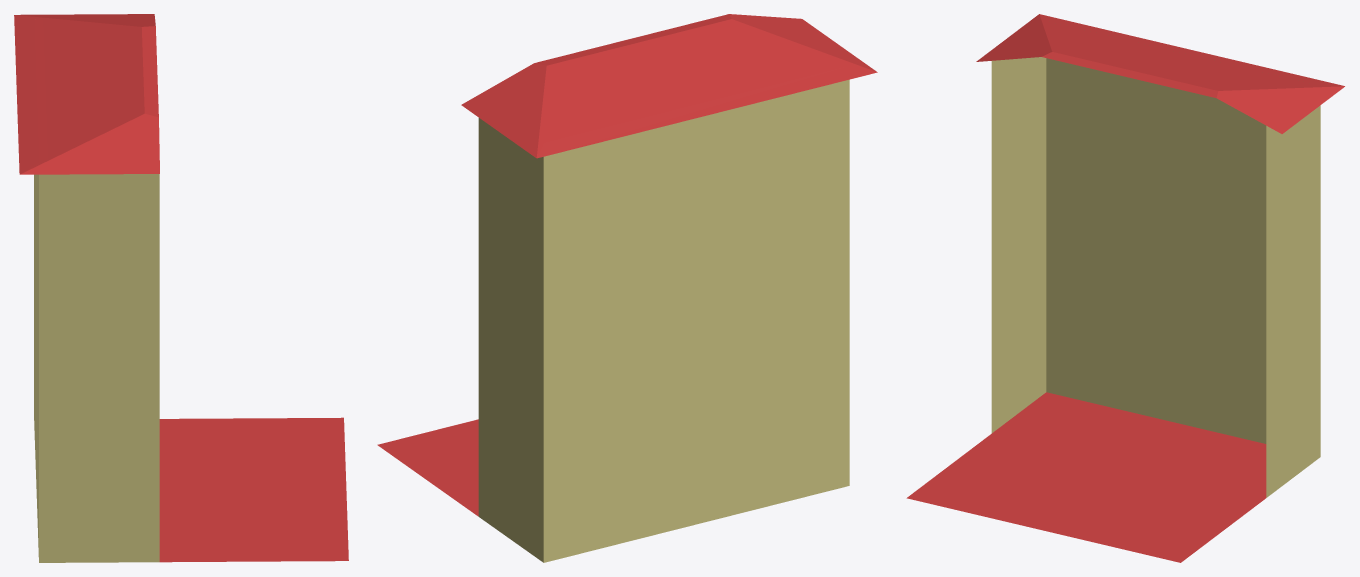
The picture shows the model from 3 angles, left to right: view 1: azimuth 30°, elevation 25°; view 2: azimuth 150°, elevation 25°; view 3: azimuth 270°, elevation 25°; orthographic projection. The views are drawn at different scales.
Size of the model in its own units: 11.74 by 12.02 by 11.76.
